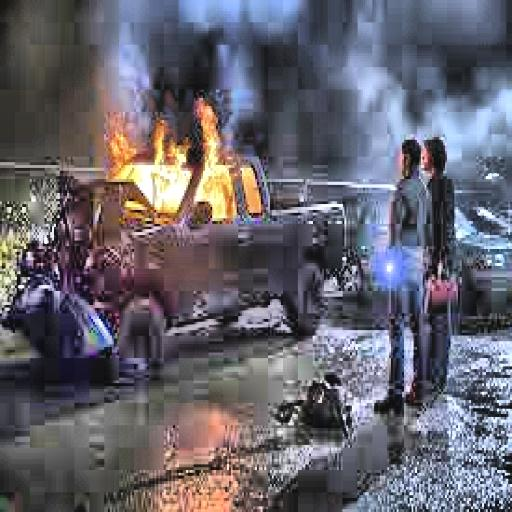fire: (104, 98, 266, 235)
